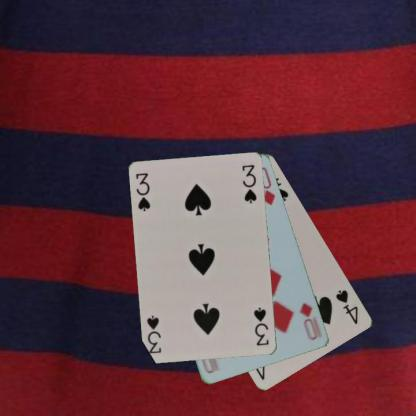10d: (297, 300, 324, 342)
3s: (133, 170, 152, 212), (252, 305, 270, 347)
4s: (333, 287, 360, 326)
